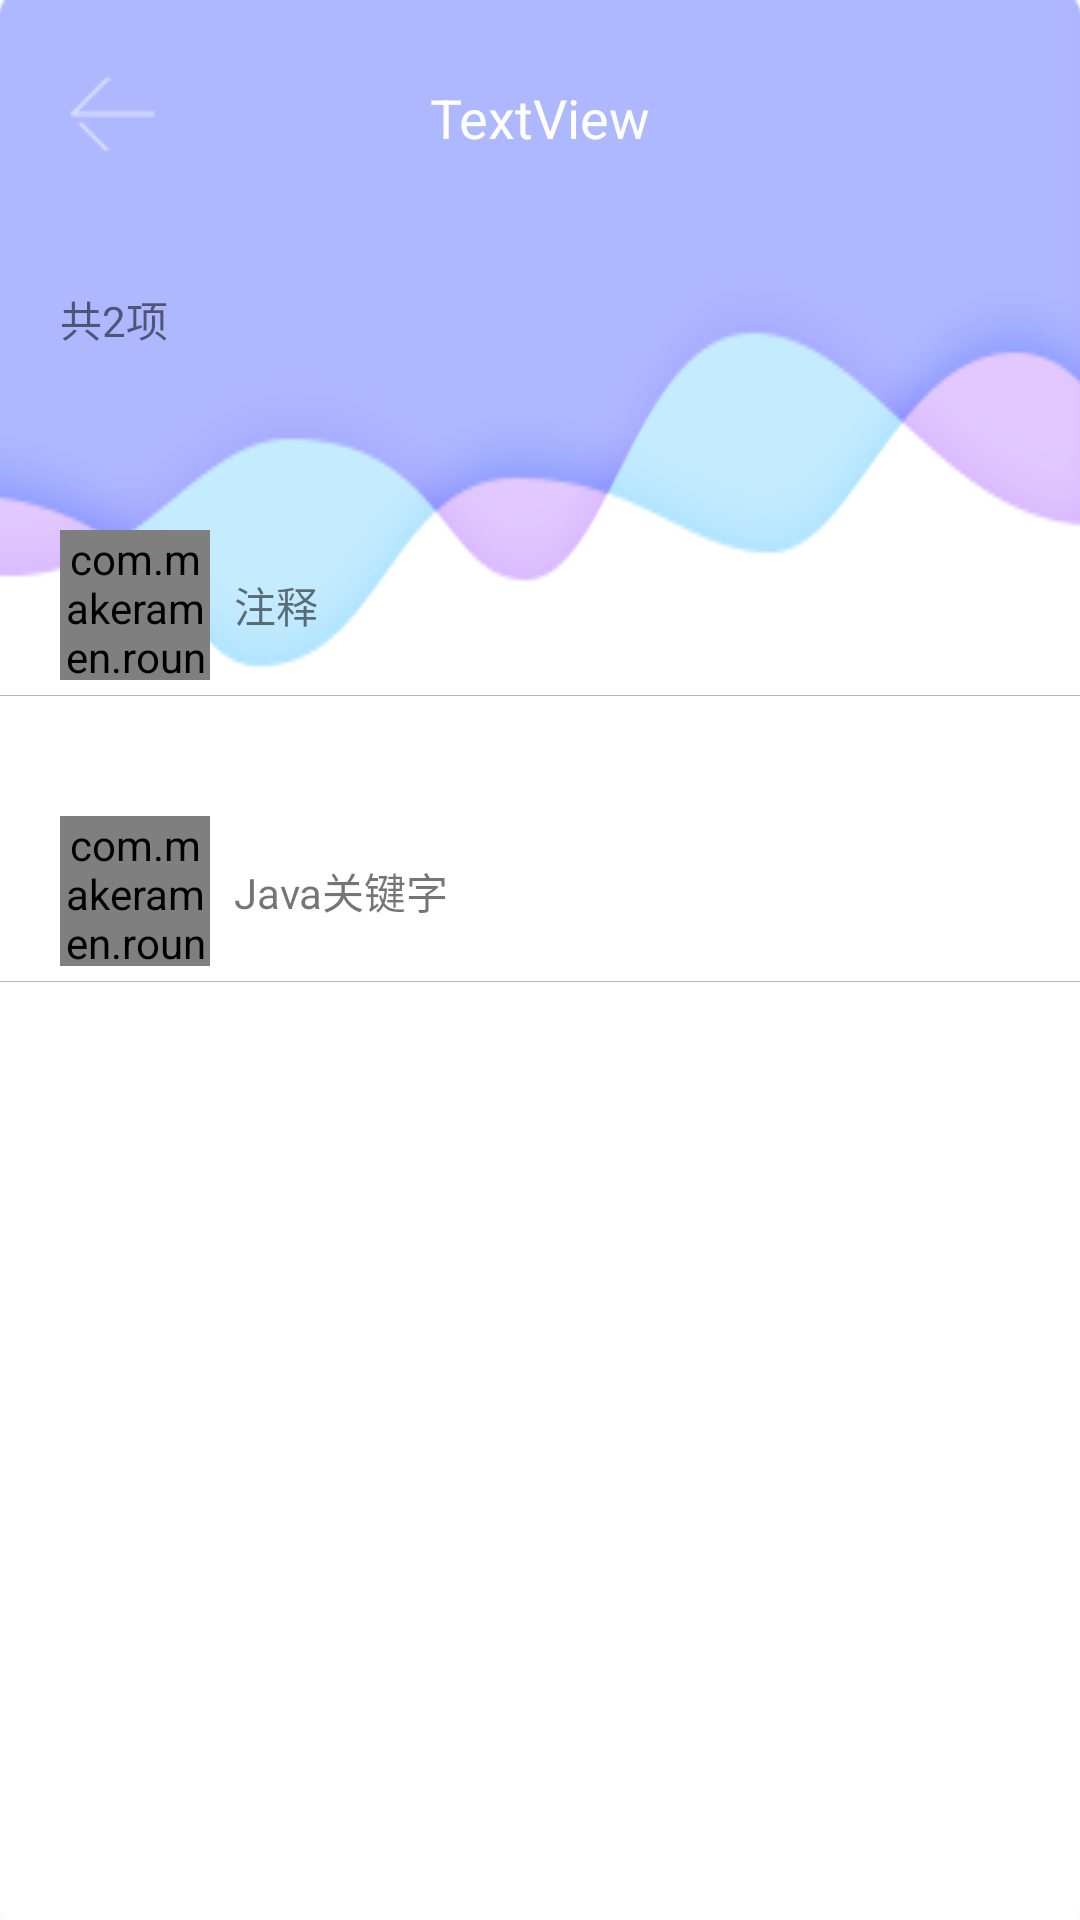

Point at icon controls on the screen. Image size 1080×1920, points as point (x, y).
back: point (113, 114)
